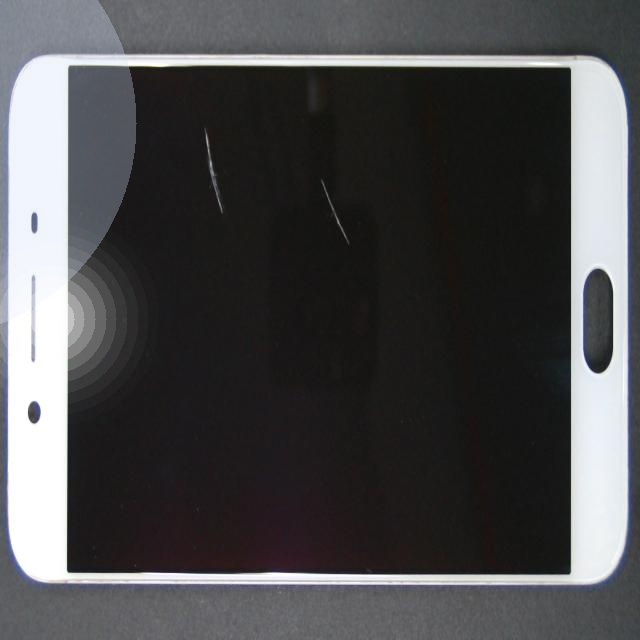scratch: (191, 165, 516, 309), (139, 141, 343, 254)
